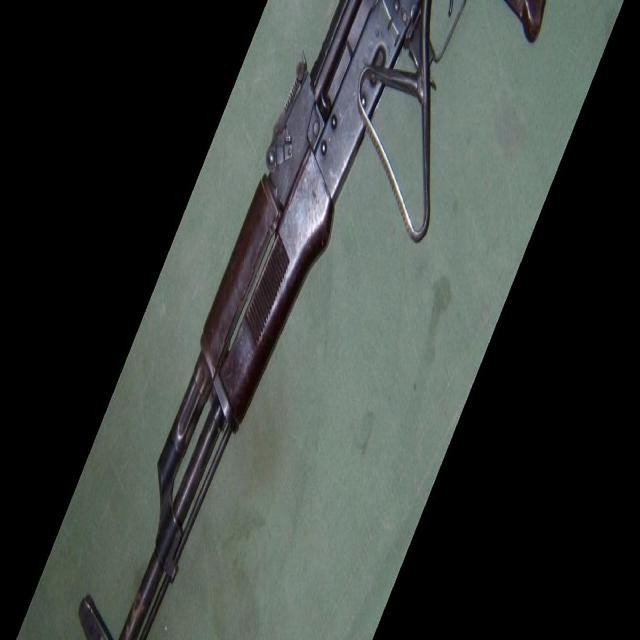weapon: (78, 2, 546, 640)
